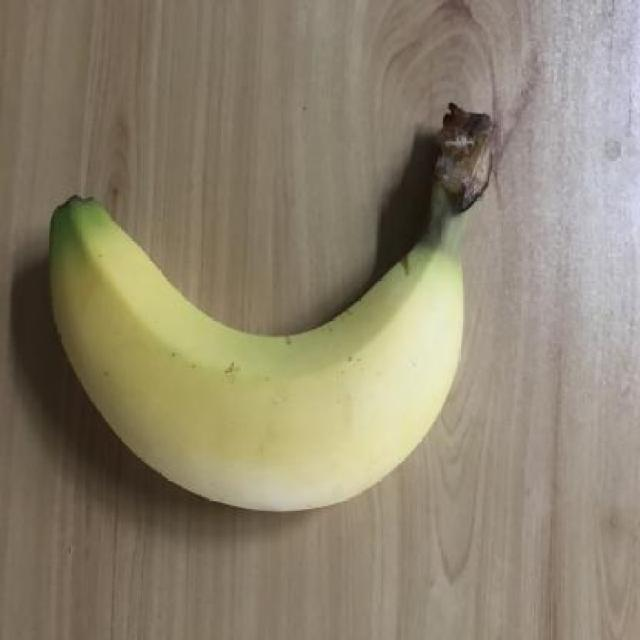banana: (47, 96, 500, 518)
